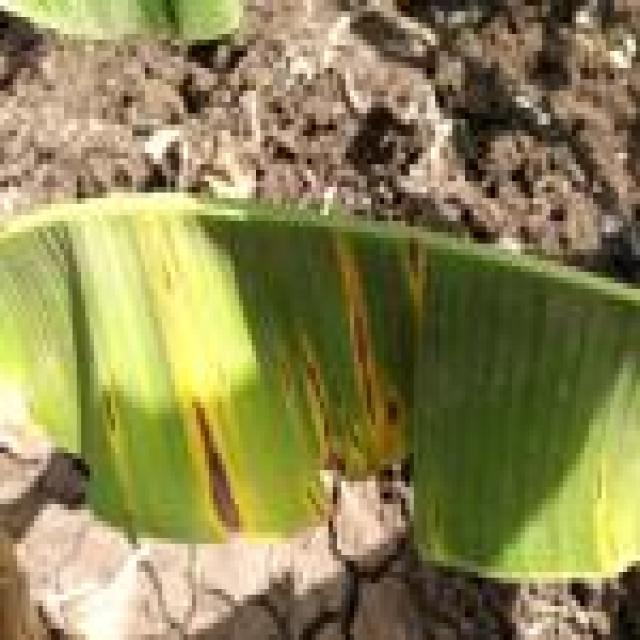Early_rust: (98, 193, 498, 564)
